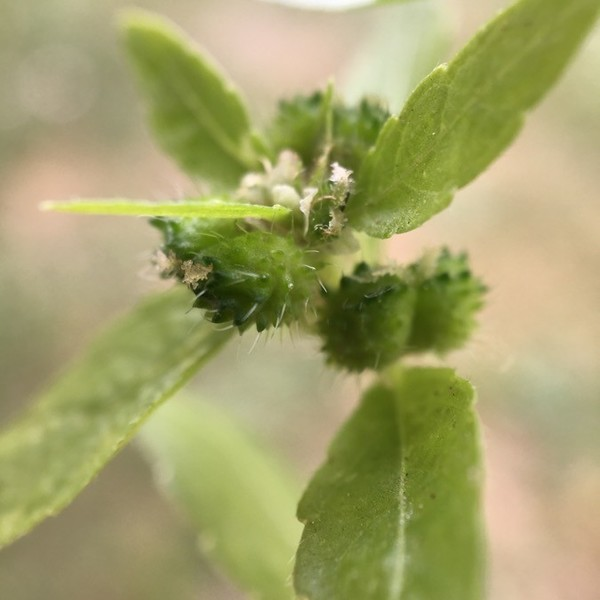obstacle: (57, 42, 480, 522)
